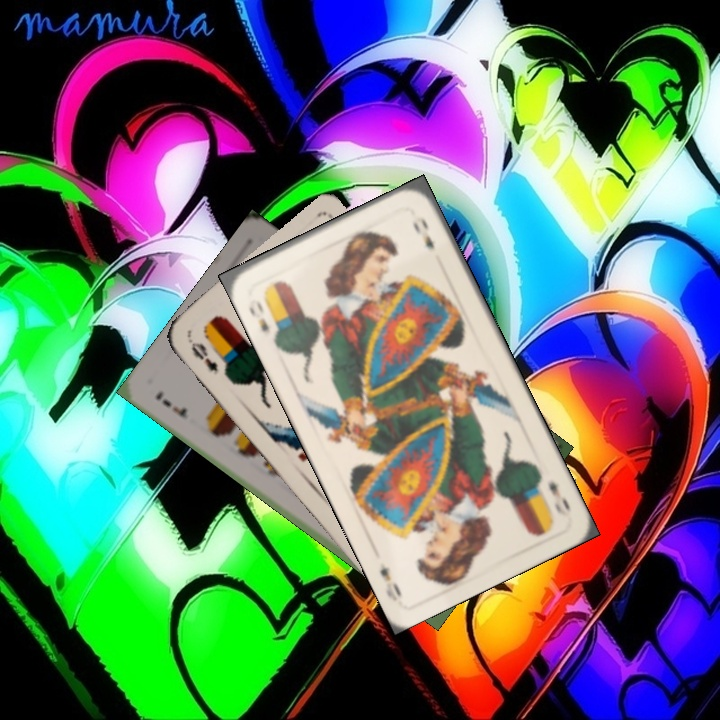E7: (151, 386, 190, 421)
EO: (184, 335, 231, 380), (544, 477, 573, 520), (244, 296, 273, 336)
